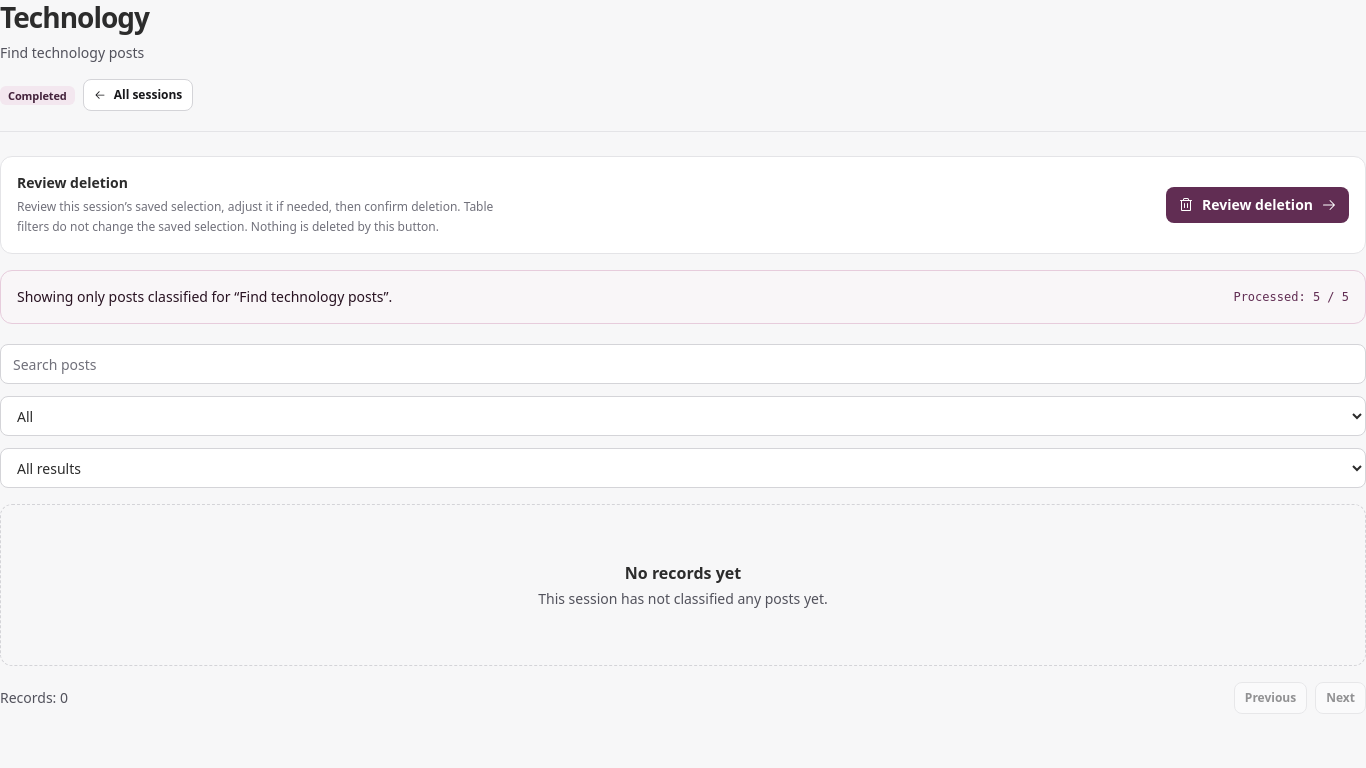
redesigned dashboard interactions (isolated, no live APIs) › opens the same inventory session's deletion review without creating a deletion
Step 1. Click the link to "/scans/review-session?review=deletion" → (1258, 205), box [1166, 187, 1349, 223]
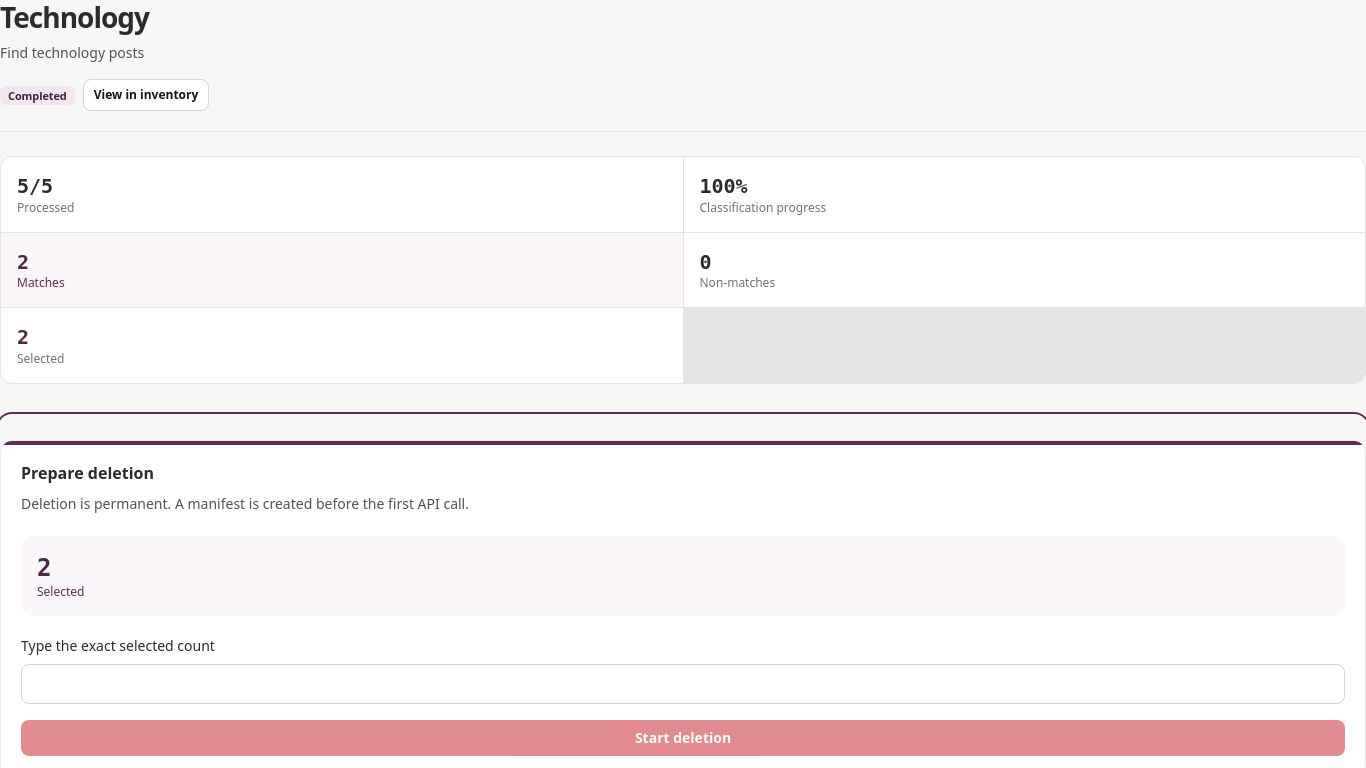
Expected: the number field labelled "Type the exact selected count" is empty, [21, 664, 1345, 704]
Now the element named "Prepare deletion" shows "2", box [37, 554, 52, 582]
Now the button "Start deletion" is disabled, box [21, 720, 1345, 756]
